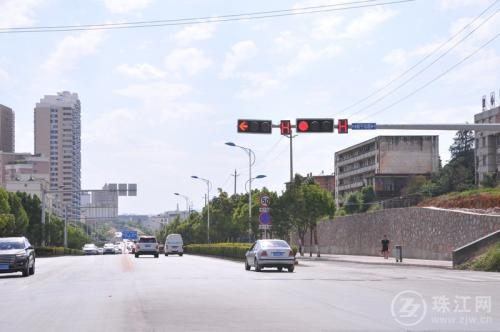red: (294, 116, 335, 135), (233, 118, 274, 136)
